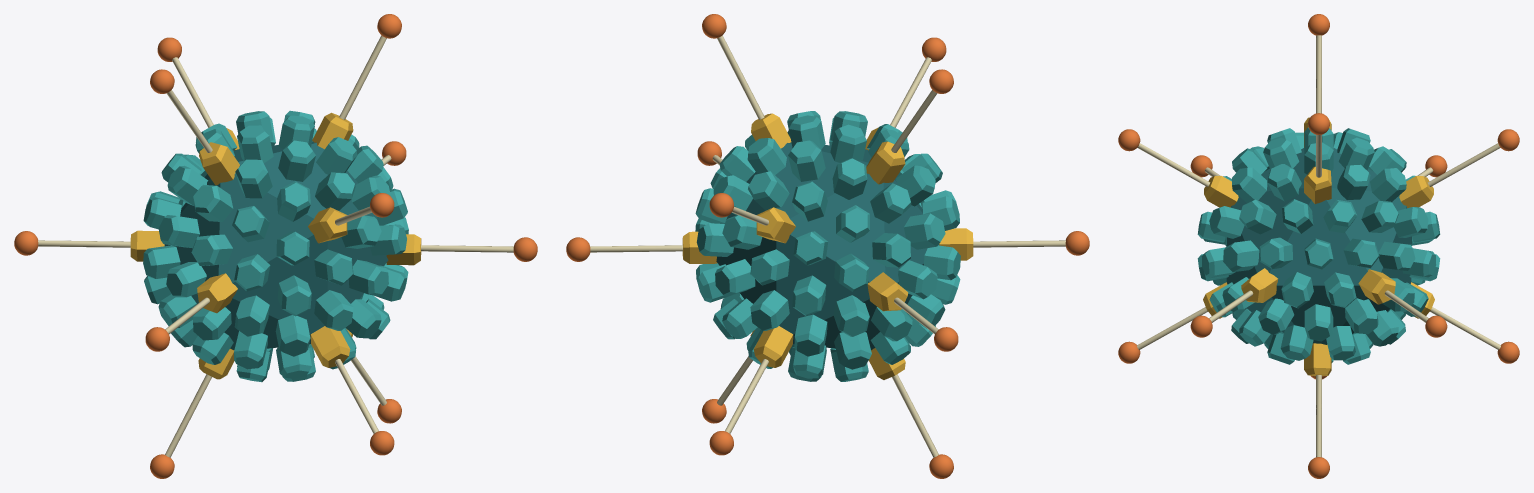
The model's file is icosahedral-virus.glb.
3 renders of one model, left to right at view 1: azimuth 30°, elevation 25°; view 2: azimuth 150°, elevation 25°; view 3: azimuth 270°, elevation 25°, orthographic. The views are drawn at different scales.
Parts seen in each view (by area): view 1: Icosahedral_Virus; view 2: Icosahedral_Virus; view 3: Icosahedral_Virus.
Part boxes in pixels (box(x1,y1,x2,y2)): Icosahedral_Virus: box(14, 14, 537, 478); Icosahedral_Virus: box(566, 14, 1089, 478); Icosahedral_Virus: box(1118, 14, 1519, 478).
Bounding box in the file's own units: 0.6875 × 0.6879 × 0.6875.
